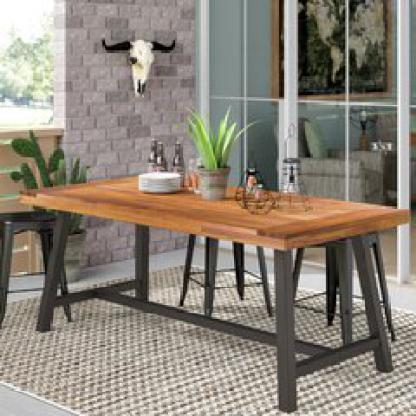table: (10, 162, 413, 416)
